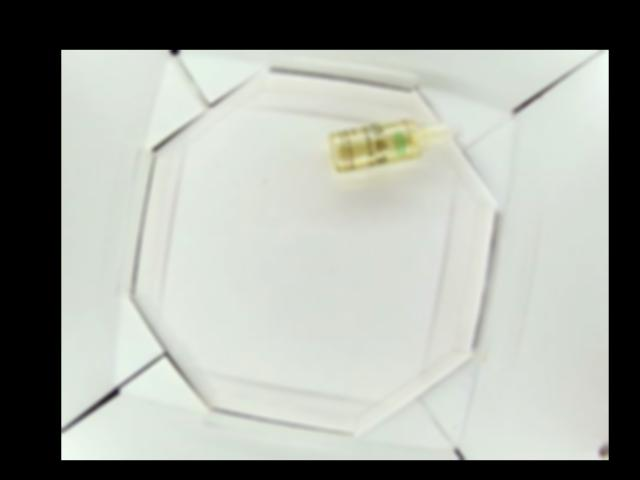Bottle: (328, 120, 460, 173)
